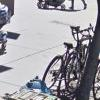Bicycle: (26, 16, 100, 100)
